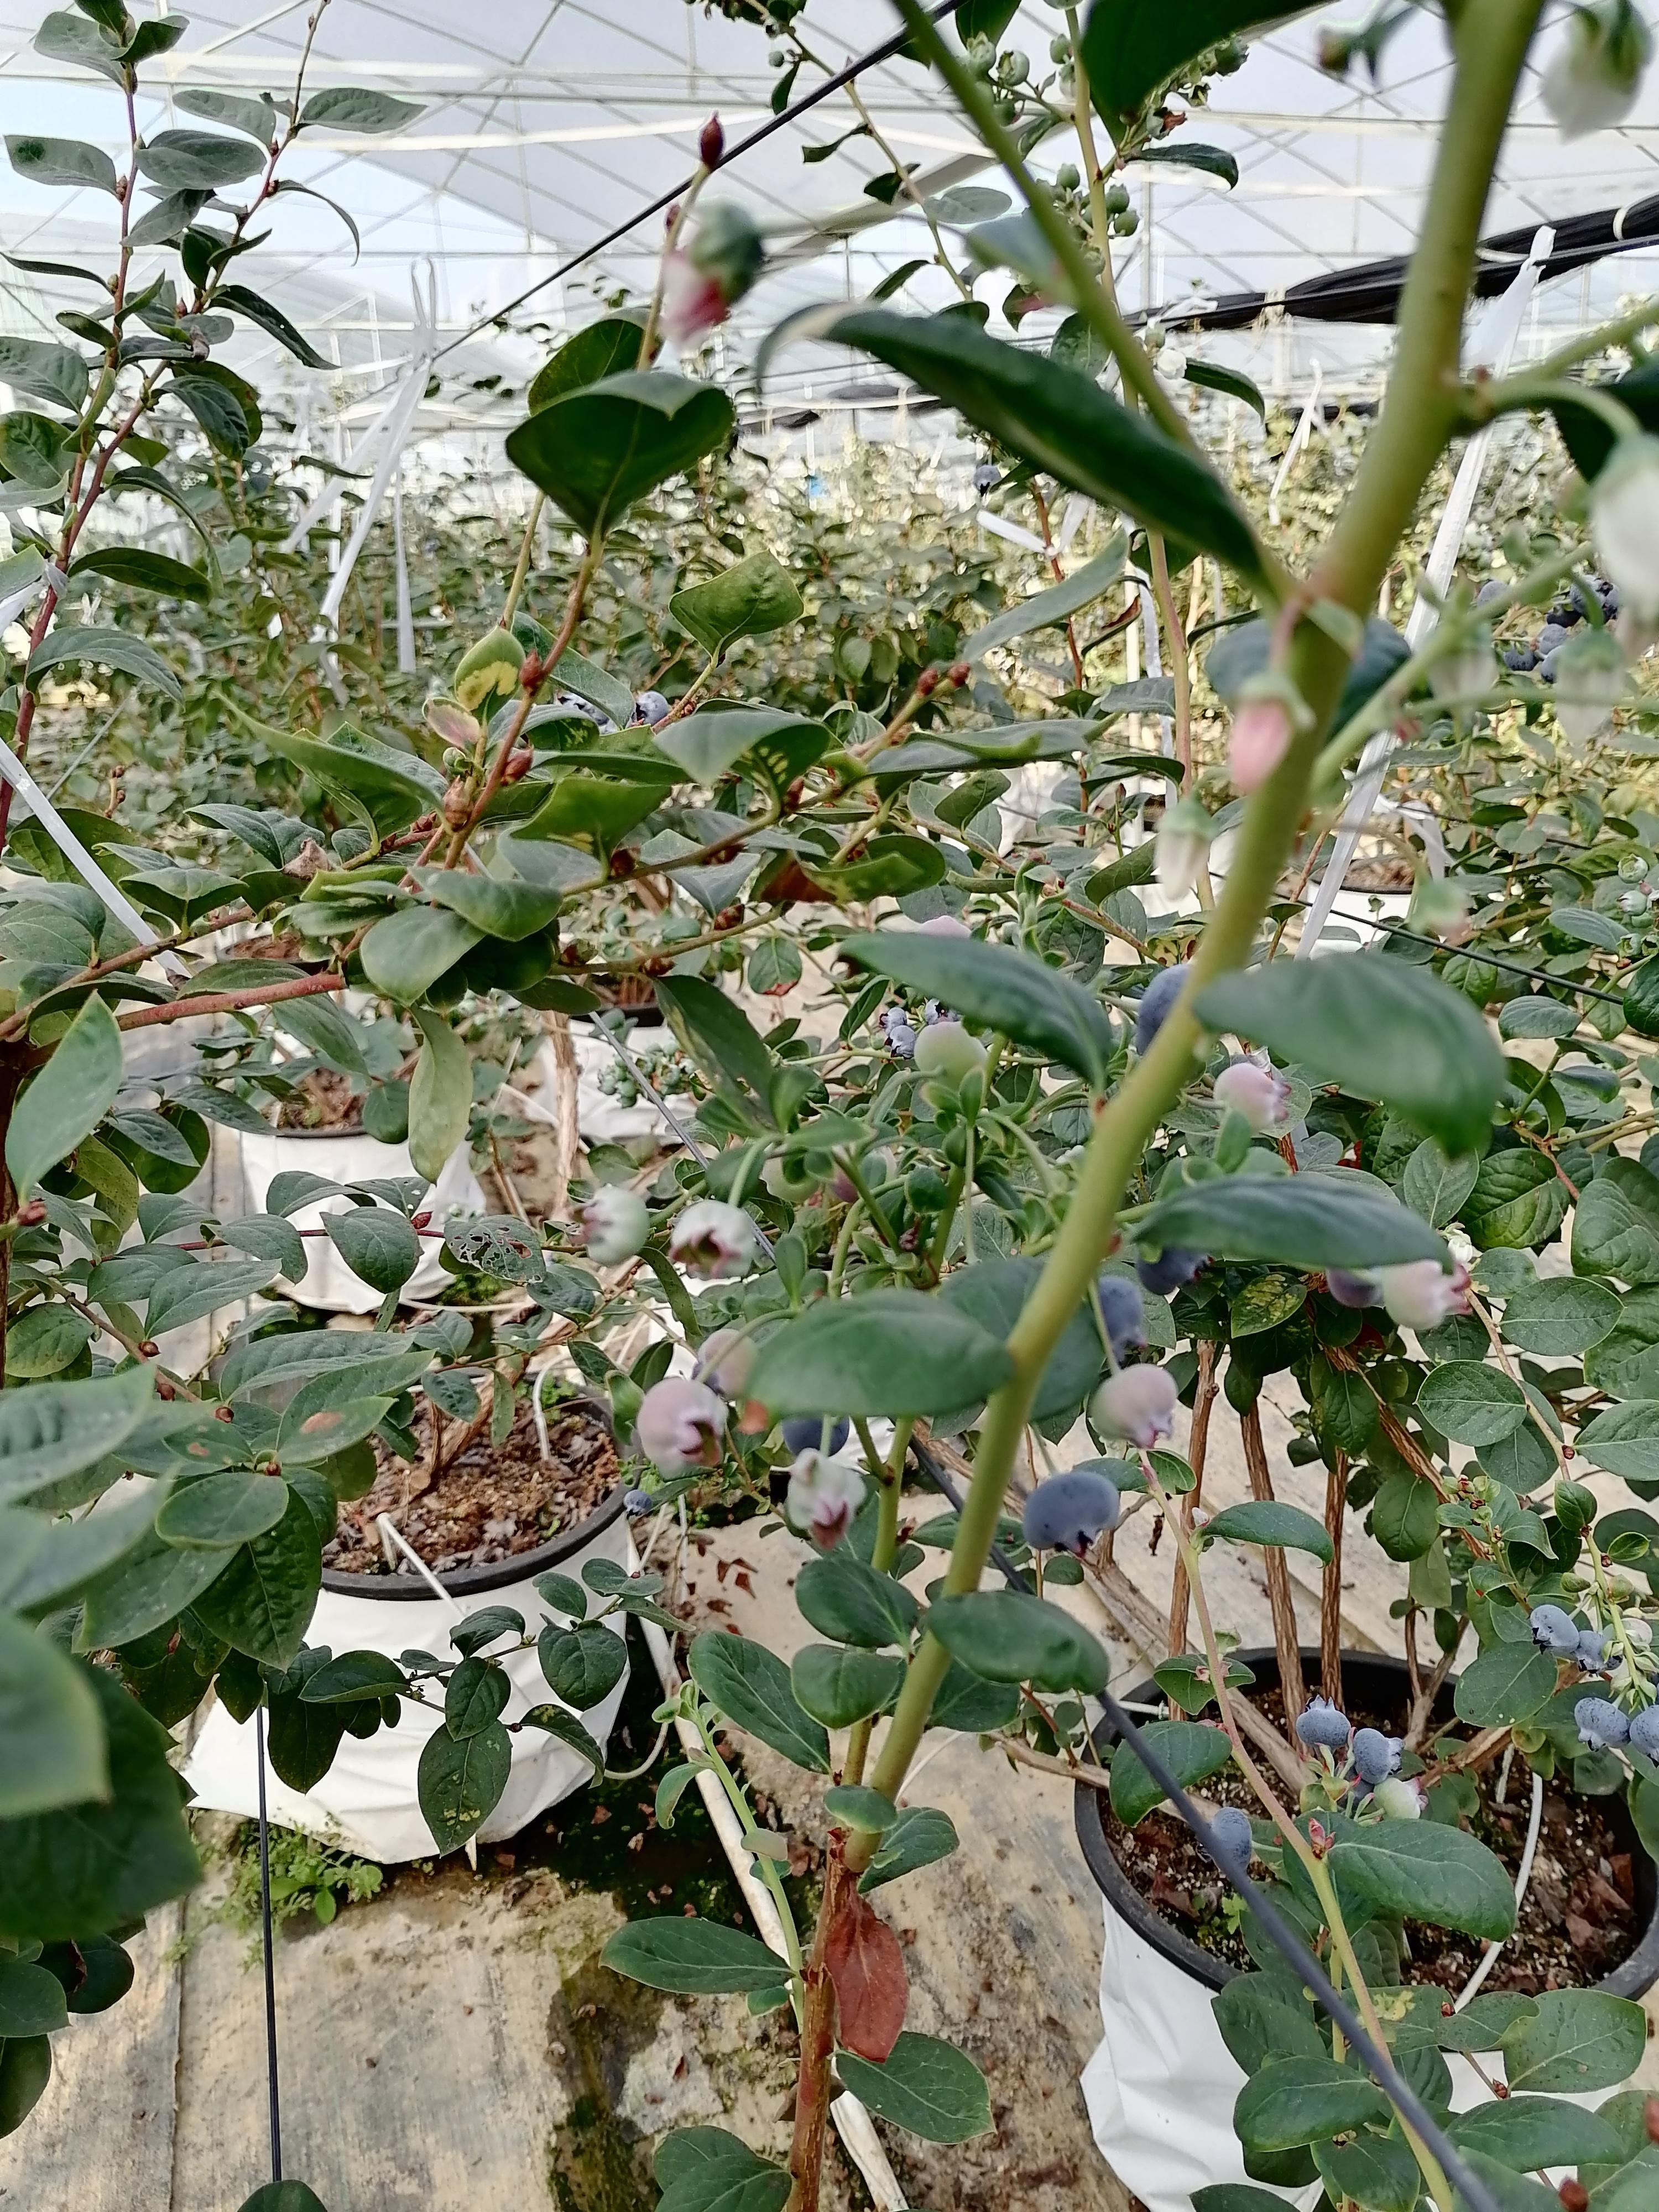ripe-blueberries: (1023, 1472, 1119, 1562), (1138, 965, 1188, 1055), (1100, 1275, 1148, 1362), (1136, 1249, 1215, 1296), (1297, 1693, 1352, 1749), (1574, 1696, 1631, 1750), (1351, 1728, 1405, 1784), (1209, 1806, 1253, 1872), (781, 1416, 849, 1456), (1530, 1604, 1579, 1655), (1629, 1703, 1659, 1768), (1570, 573, 1607, 615), (1478, 580, 1511, 618), (636, 691, 669, 726), (1504, 639, 1539, 672), (1535, 624, 1567, 660), (884, 1026, 917, 1059), (1541, 644, 1567, 685), (1547, 596, 1581, 627), (974, 465, 1002, 495), (925, 998, 957, 1024), (880, 1007, 908, 1035), (624, 1489, 652, 1517), (580, 704, 610, 726), (1603, 582, 1619, 610)
